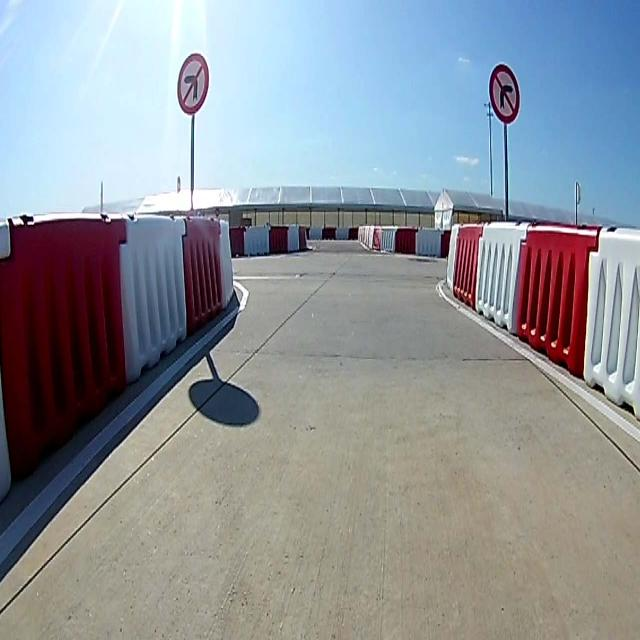sagadonulmez: (489, 63, 519, 124)
soladonulmez: (176, 52, 210, 114)
